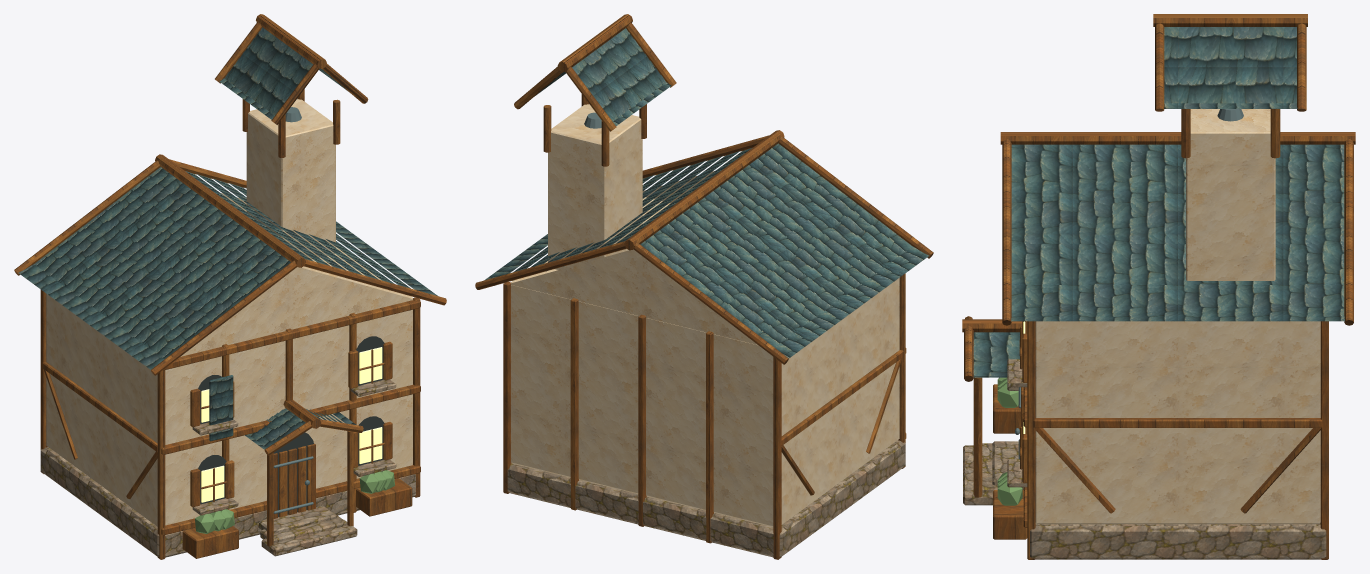
Rendered from hall.glb.
3 views of the same model, side by side, from view 1: azimuth 30°, elevation 25°; view 2: azimuth 150°, elevation 25°; view 3: azimuth 270°, elevation 25° (orthographic). The views are drawn at different scales.
Parts seen in each view (by area): view 1: SM_hall; view 2: SM_hall; view 3: SM_hall.
Boxes of the visible parts, x1=… form: SM_hall: x1=14, y1=14, x2=446, y2=559; SM_hall: x1=475, y1=14, x2=933, y2=559; SM_hall: x1=962, y1=14, x2=1355, y2=559.
Size of the model in its own units: 8.08 by 10.83 by 7.46.
8 materials, 4 textured.
